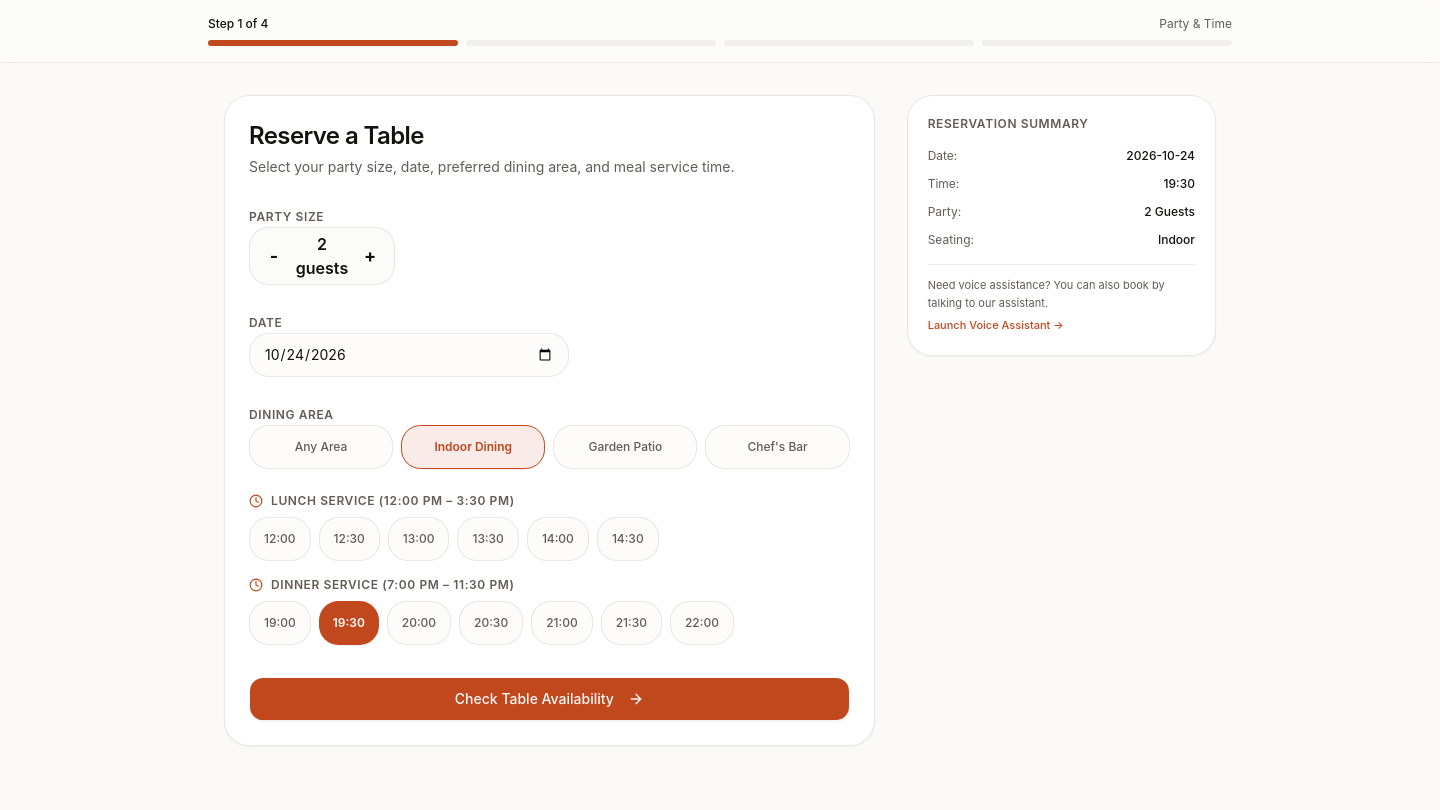
Test: Reserve Page (/reserve) › increments party size and displays deposit requirement notice at 8+ guests
Click the button named "Increase party size" at (370, 256), box [350,236,390,276]
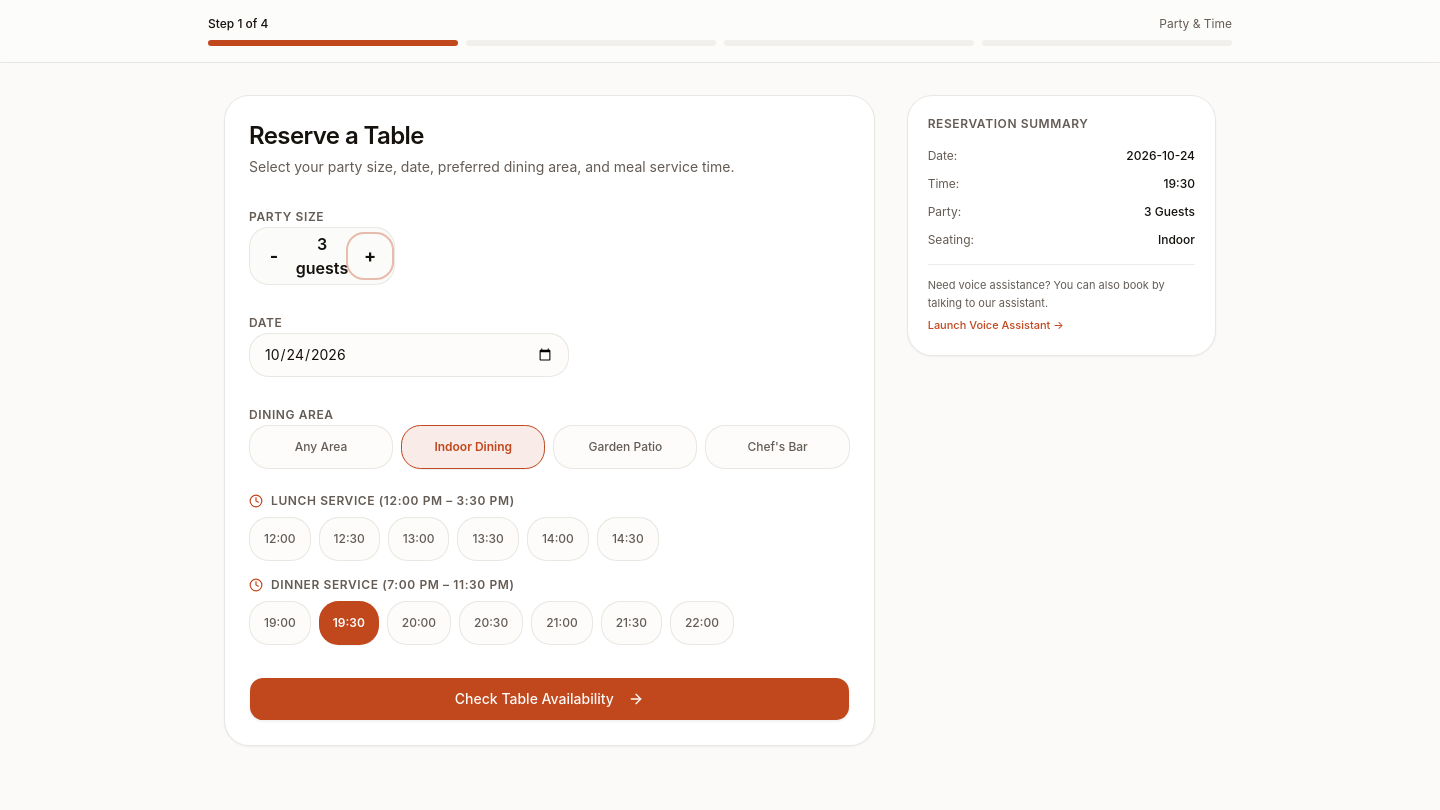
Click the button named "Increase party size" at (370, 256), box [350,236,390,276]
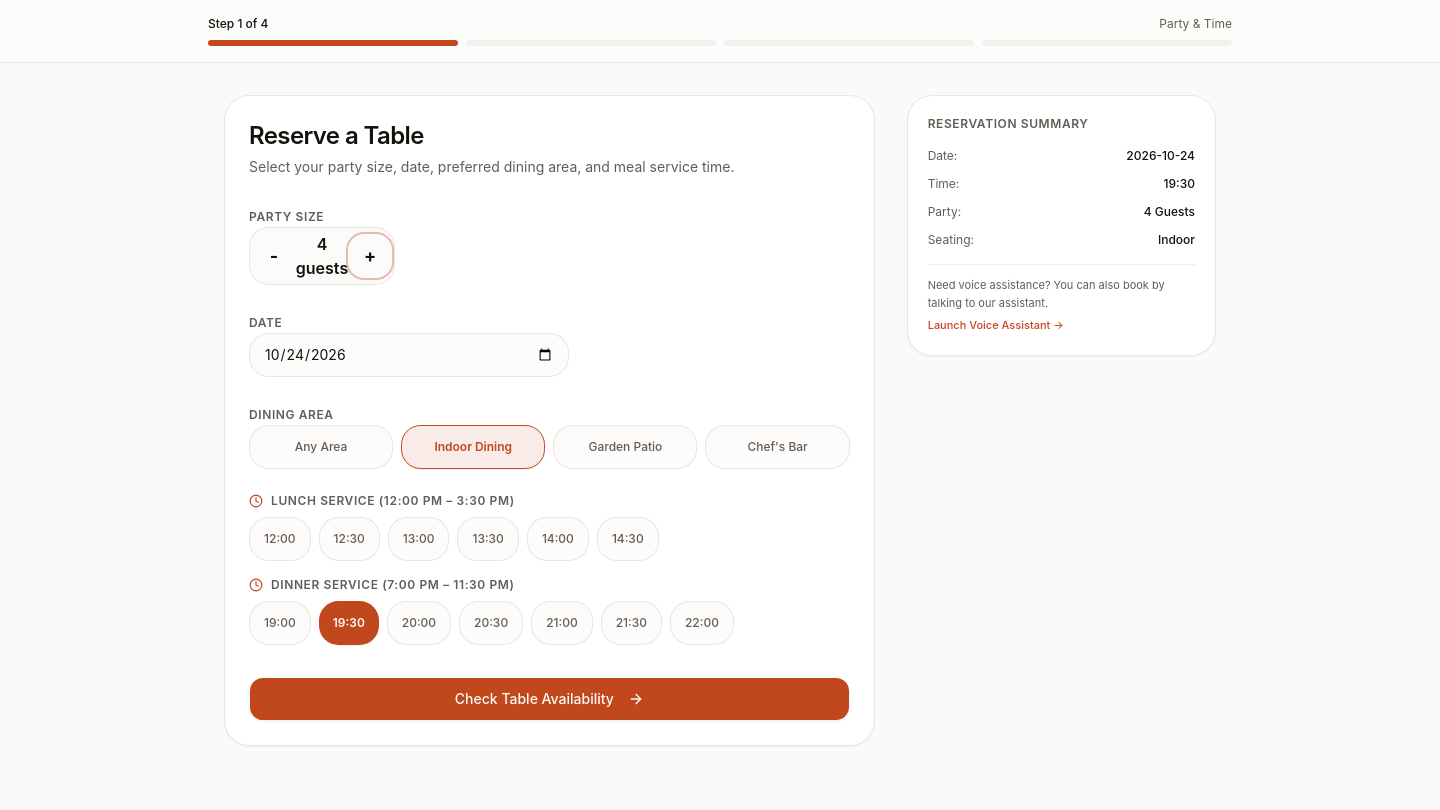
Click the button named "Increase party size" at (370, 256), box [350,236,390,276]
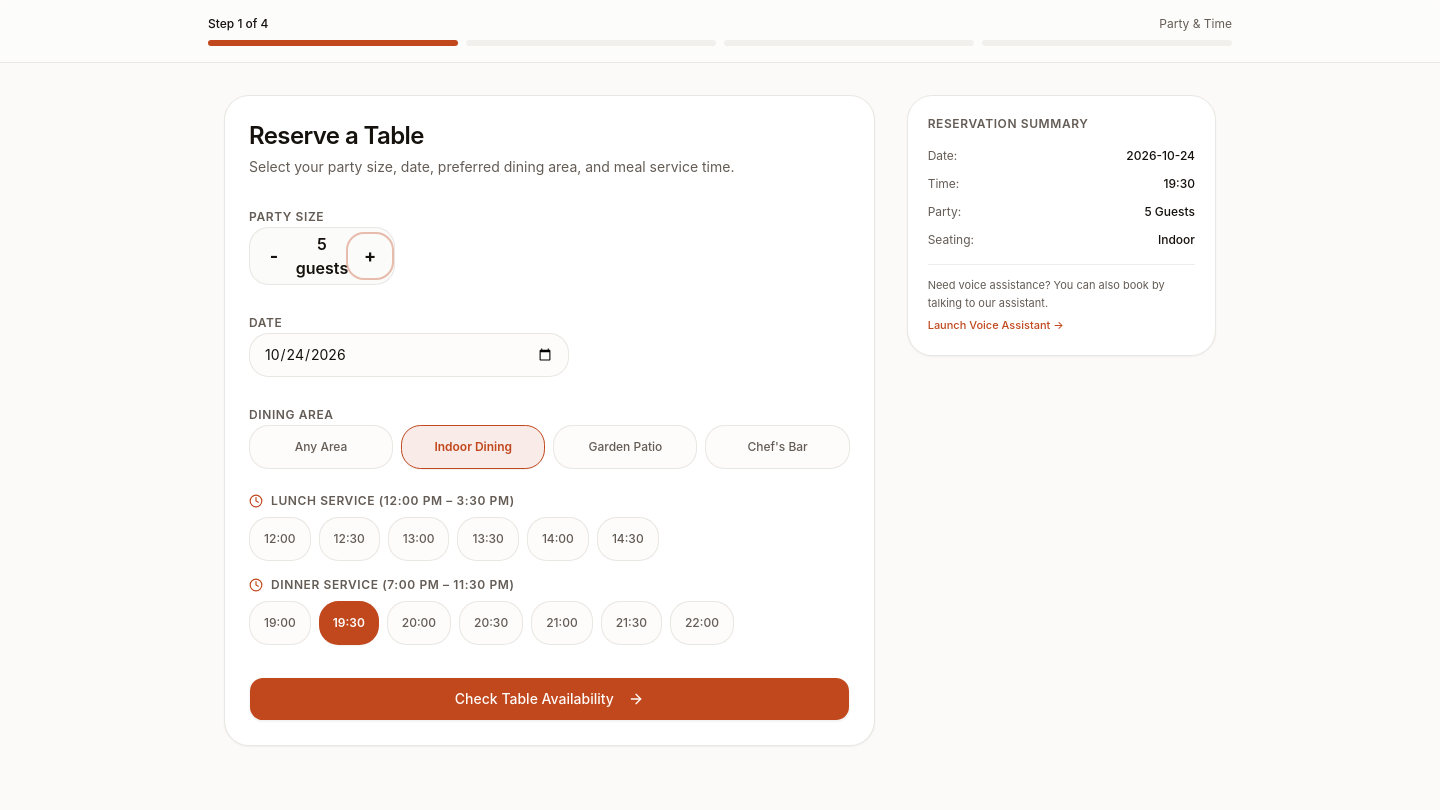
Click the button named "Increase party size" at (370, 256), box [350,236,390,276]
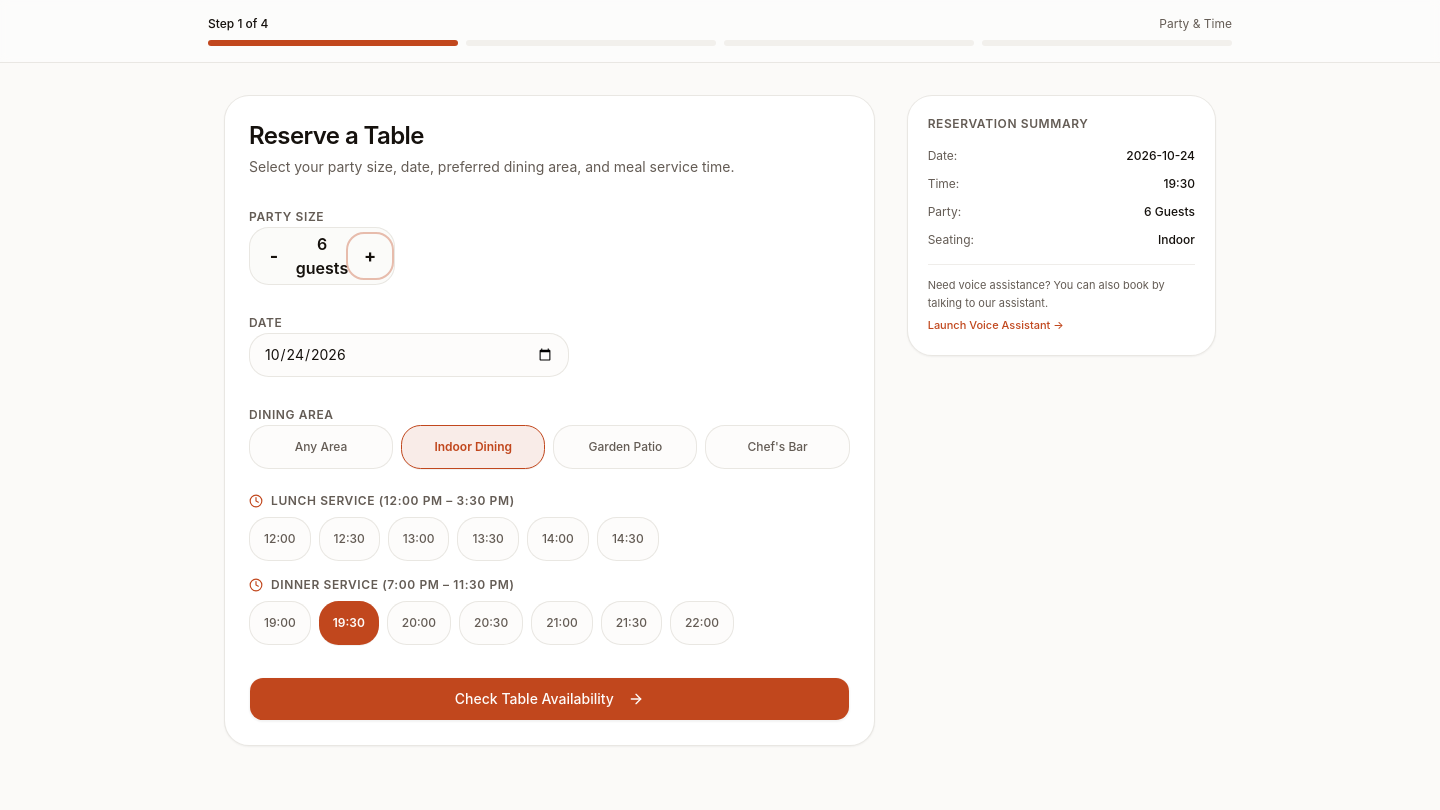
Click the button named "Increase party size" at (370, 256), box [350,236,390,276]
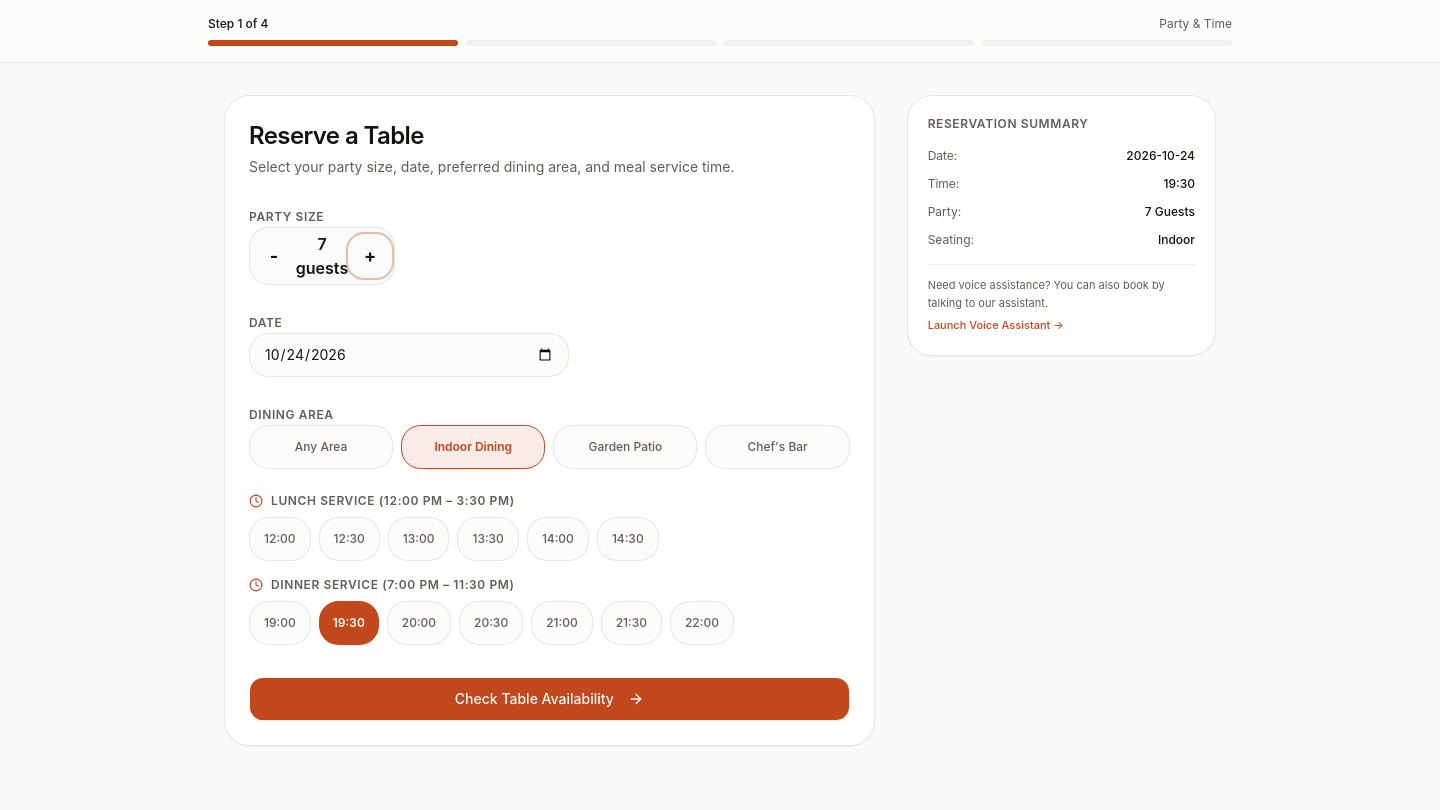
Click the button named "Increase party size" at (370, 256), box [350,236,390,276]
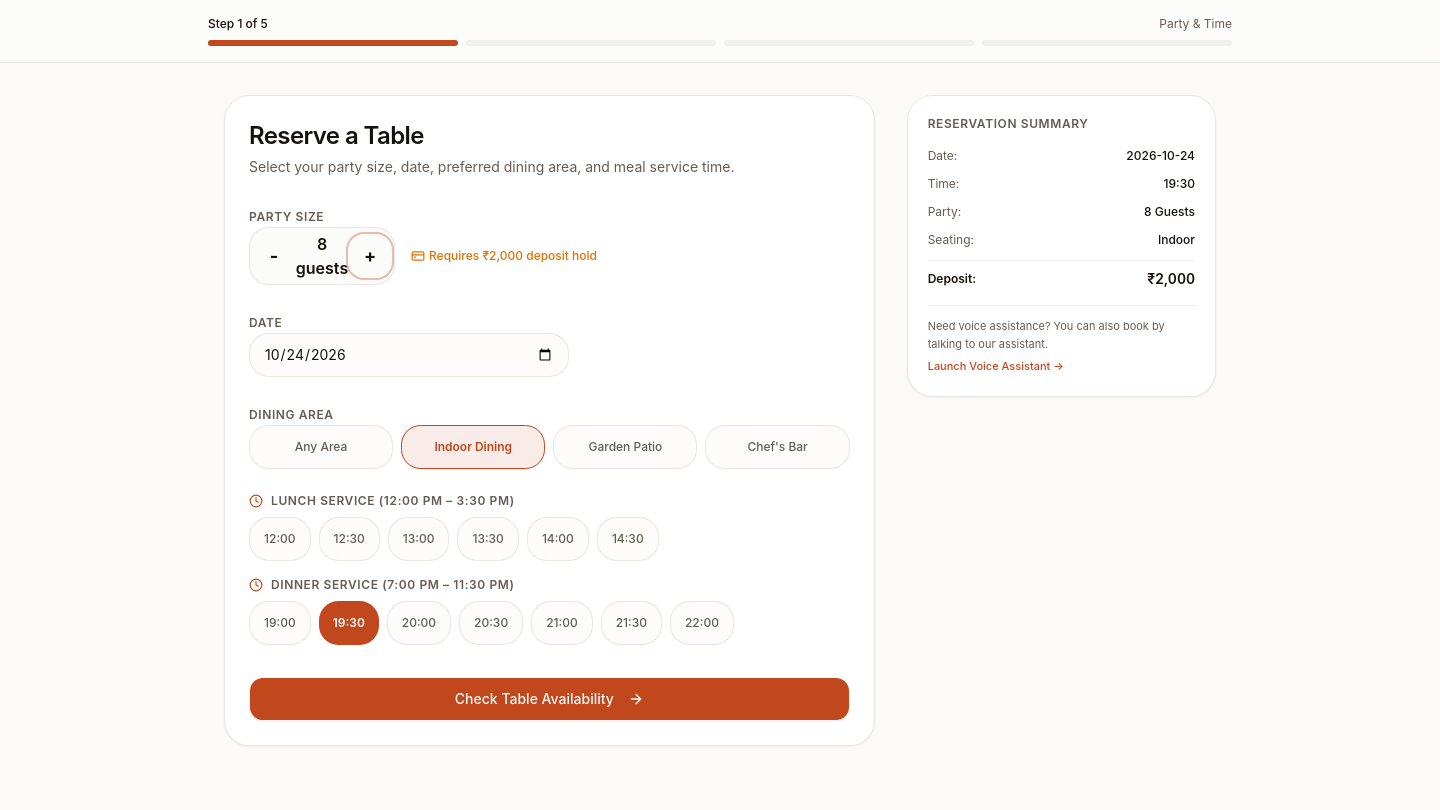
Check: the text "8 guests" is shown, box [294,232,350,280]
Check: the text "Requires ₹2,000 deposit hold" is shown, box [411,248,597,264]
